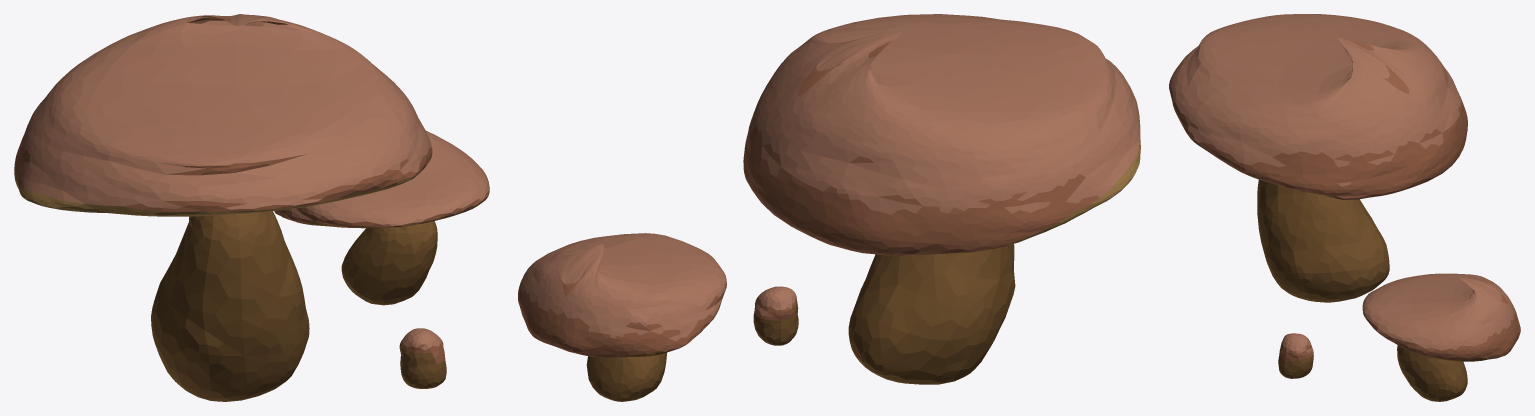
File: prop_shrooms.glb
3 views of the same model, side by side, from view 1: azimuth 30°, elevation 25°; view 2: azimuth 150°, elevation 25°; view 3: azimuth 270°, elevation 25° (orthographic). The views are drawn at different scales.
Parts seen in each view (by area): view 1: PropShroomsBody; view 2: PropShroomsBody; view 3: PropShroomsBody.
Part boxes in pixels (left/top/right/bottom): PropShroomsBody: left=14, top=14, right=489, bottom=401; PropShroomsBody: left=518, top=14, right=1140, bottom=401; PropShroomsBody: left=1169, top=14, right=1520, bottom=401.
Size of the model in its own units: 1.46 by 0.9969 by 1.13.
